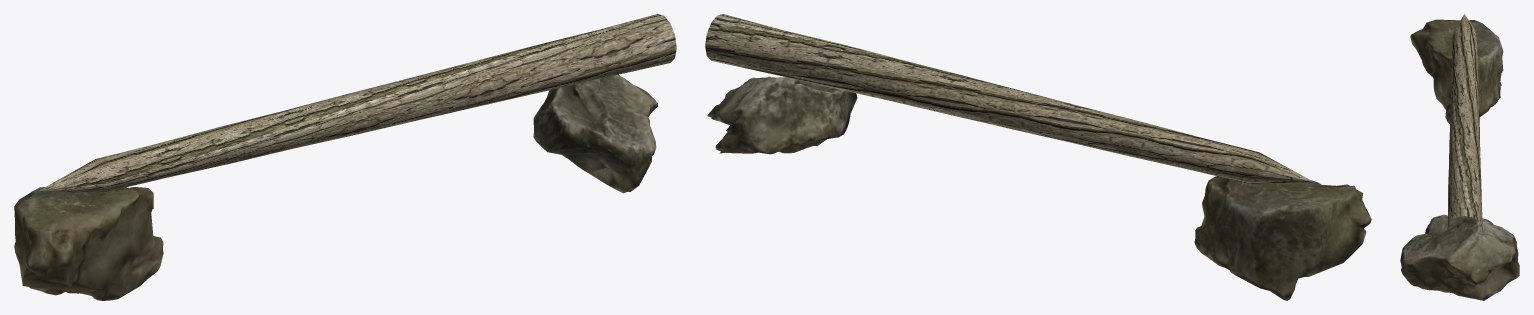
Rendered from overhead_log_on_rocks.glb.
3 renders of one model, left to right at view 1: azimuth 30°, elevation 25°; view 2: azimuth 150°, elevation 25°; view 3: azimuth 270°, elevation 25°, orthographic. The views are drawn at different scales.
Parts seen in each view (by area): view 1: log, rock_moss_set_02_rock13; view 2: log, rock_moss_set_02_rock13; view 3: rock_moss_set_02_rock13, log.
Part boxes in pixels (x1,y1,x2,y2): log: (38, 14, 676, 192); rock_moss_set_02_rock13: (14, 74, 657, 300); log: (705, 14, 1314, 184); rock_moss_set_02_rock13: (707, 76, 1371, 300); rock_moss_set_02_rock13: (1400, 19, 1519, 300); log: (1447, 14, 1482, 230).
Bounding box in the file's own units: 9.07 × 1.82 × 1.99.
Materials: 2 (2 with a texture image).
